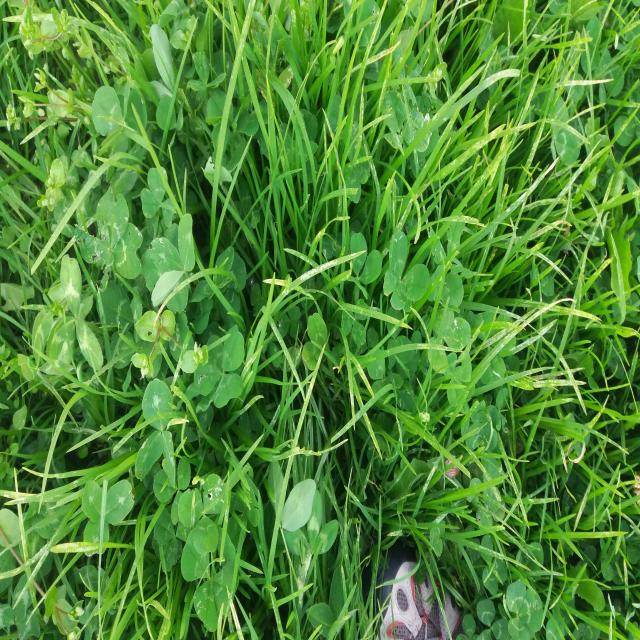Four Leaf Clover: (74, 185, 142, 292)
